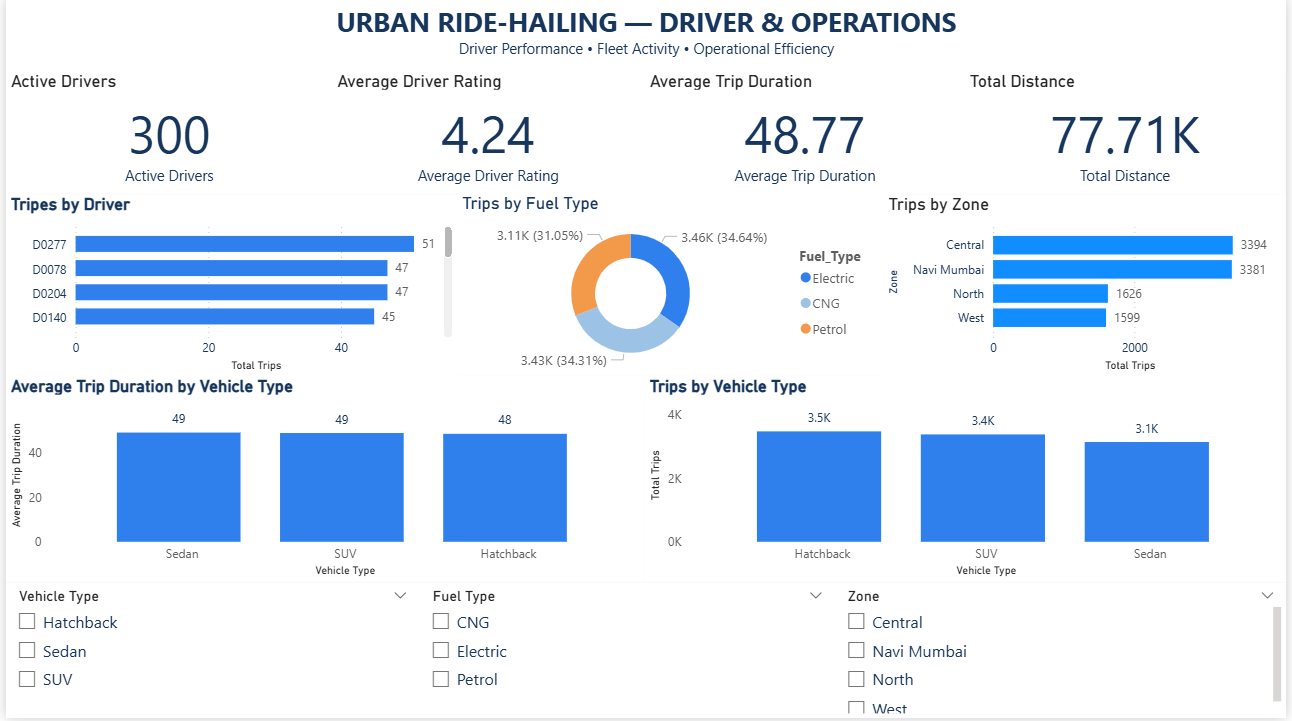

The page's visual inventory and layout, read from the dashboard file:
{"tool":"powerbi","page":{"name":"Driver & Operations","canvas":[1280,720],"ordinal":2},"visuals":[{"type":"card","title":"Active Drivers","fields":{"Values":["FactTrips.Active Drivers"]},"box":[0,72.4,326.9,123.1],"z":0},{"type":"card","title":"Average Driver Rating","fields":{"Values":["FactTrips.Average Driver Rating"]},"box":[326.5,72.4,312.5,123.1],"z":1000},{"type":"card","title":"Average Trip Duration","fields":{"Values":["FactTrips.Average Trip Duration"]},"box":[638.6,72.4,320.9,123.1],"z":2000},{"type":"card","title":"Total Distance","fields":{"Values":["FactTrips.Total Distance"]},"box":[959.1,72.4,320.9,123.1],"z":3000},{"type":"textbox","box":[0,0,1280.8,73],"z":4000},{"type":"clusteredBarChart","title":"Tripes by Driver","fields":{"Category":["DimDriver.Driver_ID"],"Y":["FactTrips.Total Trips"]},"box":[0,195.7,451.2,182.2],"z":5000},{"type":"clusteredColumnChart","title":"Trips by Vehicle Type","fields":{"Category":["DimVehicle.Vehicle_Type"],"Y":["FactTrips.Total Trips"]},"box":[638.2,377.6,641.8,206.3],"z":6000},{"type":"donutChart","title":"Trips by Fuel Type","fields":{"Category":["DimVehicle.Fuel_Type"],"Y":["FactTrips.Total Trips"]},"box":[451.2,195.4,427.1,182.2],"z":7000},{"type":"clusteredColumnChart","title":"Average Trip Duration by Vehicle Type","fields":{"Category":["DimVehicle.Vehicle_Type"],"Y":["FactTrips.Average Trip Duration"]},"box":[0,377.6,638.2,206.3],"z":8000},{"type":"clusteredBarChart","title":"Trips by Zone","fields":{"Category":["DimLocation.Zone"],"Y":["FactTrips.Total Trips"]},"box":[878,195.7,402.3,182.2],"z":9000},{"type":"slicer","fields":{"Values":["DimVehicle.Vehicle_Type"]},"box":[0,585,413.3,135],"z":10000},{"type":"slicer","fields":{"Values":["DimVehicle.Fuel_Type"]},"box":[413.3,585,415,135],"z":11000},{"type":"slicer","fields":{"Values":["DimLocation.Zone"]},"box":[828.3,585,451.7,135],"z":12000}]}

Visuals, with their boxes in screenshot pixels (x1, y1, x2, y2), scaled from the page's 1280x720 canvas onto the 1292x721 screenshot:
"Active Drivers" card: <region>0, 73, 330, 196</region>
"Average Driver Rating" card: <region>330, 73, 645, 196</region>
"Average Trip Duration" card: <region>645, 73, 968, 196</region>
"Total Distance" card: <region>968, 73, 1291, 196</region>
textbox: <region>0, 0, 1291, 73</region>
"Tripes by Driver" clusteredBarChart: <region>0, 196, 455, 378</region>
"Trips by Vehicle Type" clusteredColumnChart: <region>644, 378, 1291, 585</region>
"Trips by Fuel Type" donutChart: <region>455, 196, 887, 378</region>
"Average Trip Duration by Vehicle Type" clusteredColumnChart: <region>0, 378, 644, 585</region>
"Trips by Zone" clusteredBarChart: <region>886, 196, 1291, 378</region>
slicer - DimVehicle.Vehicle_Type: <region>0, 586, 417, 720</region>
slicer - DimVehicle.Fuel_Type: <region>417, 586, 836, 720</region>
slicer - DimLocation.Zone: <region>836, 586, 1291, 720</region>
